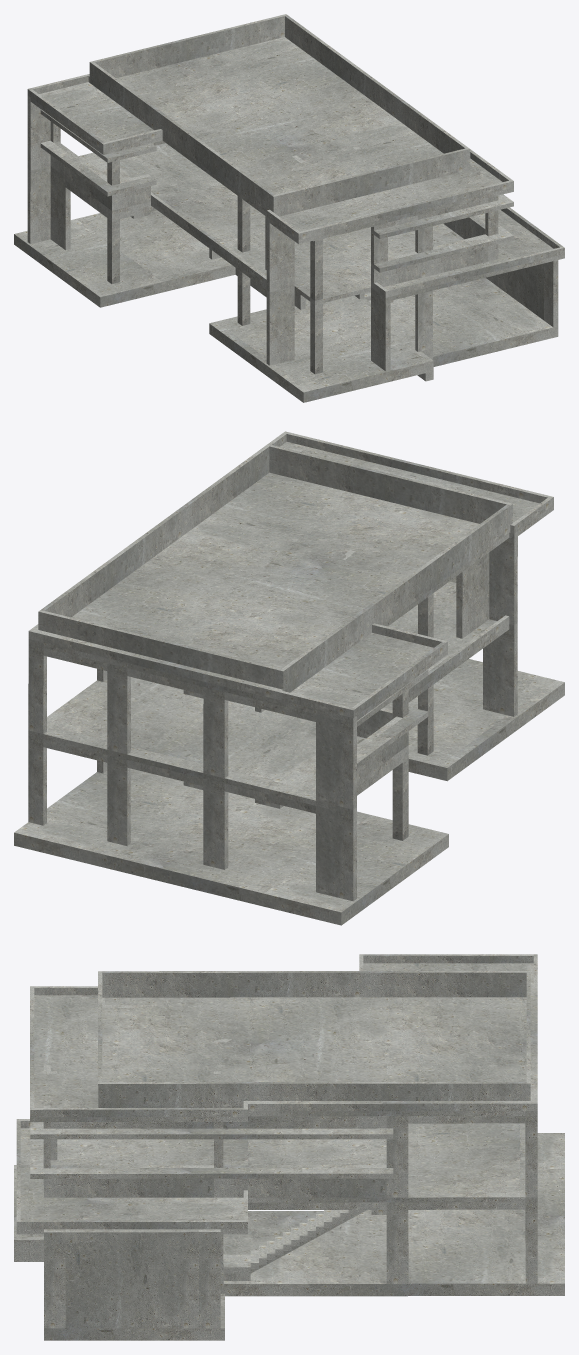
The model's file is house_in_limassol_147.glb.
3 renders of one model, top to bottom at view 1: azimuth 30°, elevation 25°; view 2: azimuth 150°, elevation 25°; view 3: azimuth 270°, elevation 25°, orthographic. The views are drawn at different scales.
Visible parts, largest first — view 1: skfb_offset; view 2: skfb_offset; view 3: skfb_offset.
Part boxes in pixels (x1,y1,x2,y2): skfb_offset: (14,14,564,402); skfb_offset: (14,431,564,925); skfb_offset: (14,954,564,1340).
Bounding box in the file's own units: 16100 × 8915 × 20250.
1 material, 1 textured.
